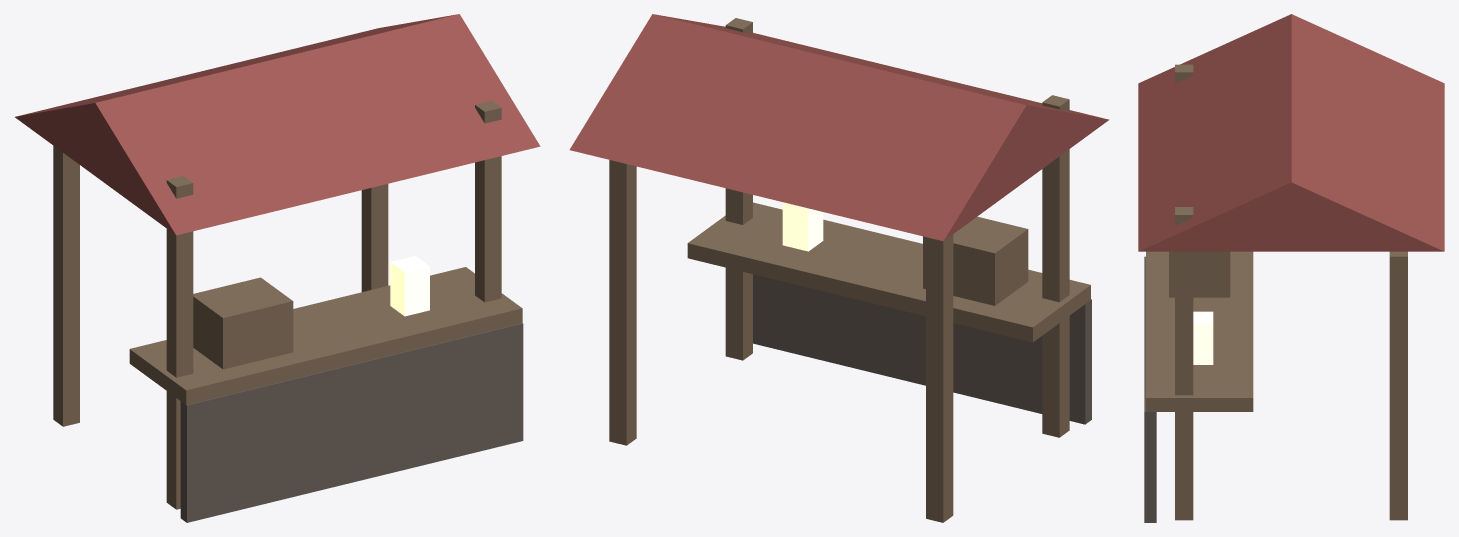
Rendered from market_stall.glb.
3 renders of one model, left to right at view 1: azimuth 30°, elevation 25°; view 2: azimuth 150°, elevation 25°; view 3: azimuth 270°, elevation 25°, orthographic. The views are drawn at different scales.
Visible parts, largest first — view 1: market_stall; view 2: market_stall; view 3: market_stall.
Boxes of the visible parts, x1,y1,x2,y2 form: market_stall: (15,14,540,522); market_stall: (569,14,1109,522); market_stall: (1138,14,1444,522).
Size of the model in its own units: 2.6 by 2.5 by 2.
